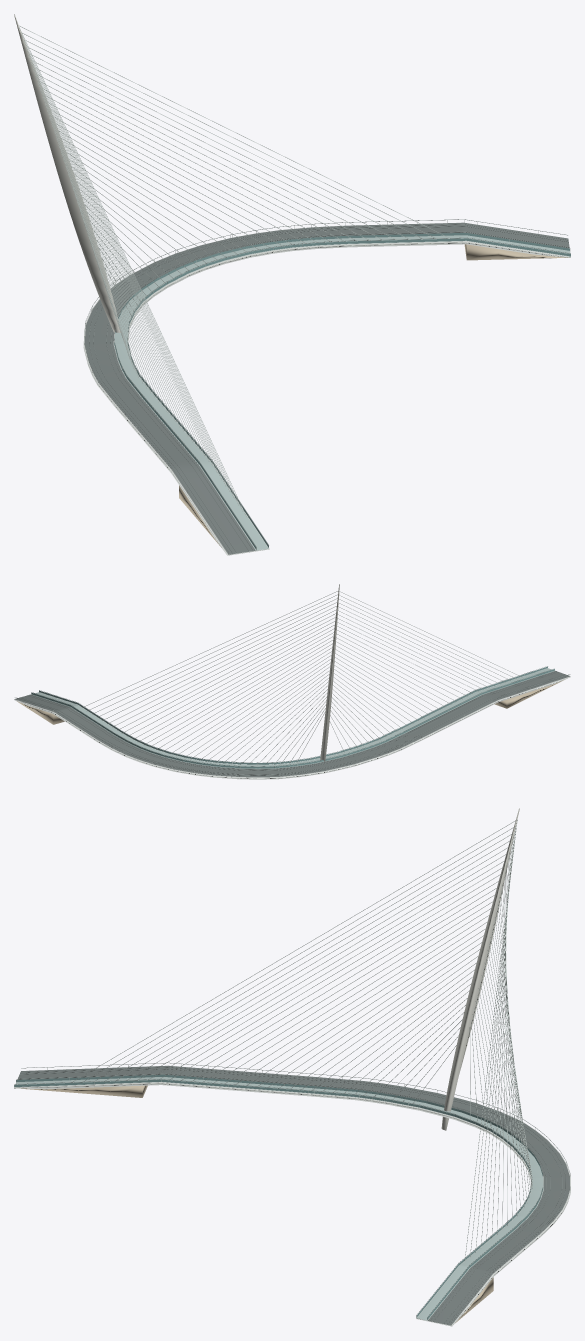
Rendered from chords-bridge-far.glb.
3 renders of one model, top to bottom at view 1: azimuth 30°, elevation 25°; view 2: azimuth 150°, elevation 25°; view 3: azimuth 270°, elevation 25°, orthographic. The views are drawn at different scales.
Parts seen in each view (by area): view 1: chords-bridge-0-cable, chords-bridge-0-bed, chords-bridge-0-walk, chords-bridge-0-rail, chords-bridge-0-tower, chords-bridge-0-glass, chords-bridge-0-deck, chords-bridge-0-stone; view 2: chords-bridge-0-cable, chords-bridge-0-bed, chords-bridge-0-rail, chords-bridge-0-walk, chords-bridge-0-glass, chords-bridge-0-deck, chords-bridge-0-tower, chords-bridge-0-stone; view 3: chords-bridge-0-cable, chords-bridge-0-bed, chords-bridge-0-walk, chords-bridge-0-rail, chords-bridge-0-glass, chords-bridge-0-deck, chords-bridge-0-tower, chords-bridge-0-stone.
Boxes of the visible parts, x1=… form: chords-bridge-0-cable: x1=19, y1=25, x2=450, y2=517; chords-bridge-0-bed: x1=85, y1=222, x2=569, y2=554; chords-bridge-0-walk: x1=114, y1=235, x2=570, y2=550; chords-bridge-0-rail: x1=84, y1=219, x2=570, y2=553; chords-bridge-0-tower: x1=14, y1=14, x2=120, y2=332; chords-bridge-0-glass: x1=114, y1=233, x2=570, y2=549; chords-bridge-0-deck: x1=83, y1=222, x2=570, y2=555; chords-bridge-0-stone: x1=179, y1=244, x2=567, y2=547; chords-bridge-0-cable: x1=82, y1=591, x2=521, y2=764; chords-bridge-0-bed: x1=15, y1=671, x2=569, y2=777; chords-bridge-0-rail: x1=15, y1=666, x2=570, y2=775; chords-bridge-0-walk: x1=31, y1=668, x2=554, y2=768; chords-bridge-0-glass: x1=31, y1=666, x2=554, y2=768; chords-bridge-0-deck: x1=14, y1=672, x2=570, y2=779; chords-bridge-0-tower: x1=320, y1=584, x2=339, y2=761; chords-bridge-0-stone: x1=17, y1=679, x2=564, y2=724; chords-bridge-0-cable: x1=71, y1=819, x2=532, y2=1261; chords-bridge-0-bed: x1=17, y1=1065, x2=569, y2=1325; chords-bridge-0-walk: x1=14, y1=1077, x2=543, y2=1320; chords-bridge-0-rail: x1=14, y1=1062, x2=570, y2=1324; chords-bridge-0-glass: x1=14, y1=1074, x2=543, y2=1319; chords-bridge-0-deck: x1=14, y1=1065, x2=570, y2=1326; chords-bridge-0-tower: x1=441, y1=808, x2=519, y2=1130; chords-bridge-0-stone: x1=21, y1=1085, x2=493, y2=1322.
Bounding box in the file's own units: 222 × 118 × 205.
